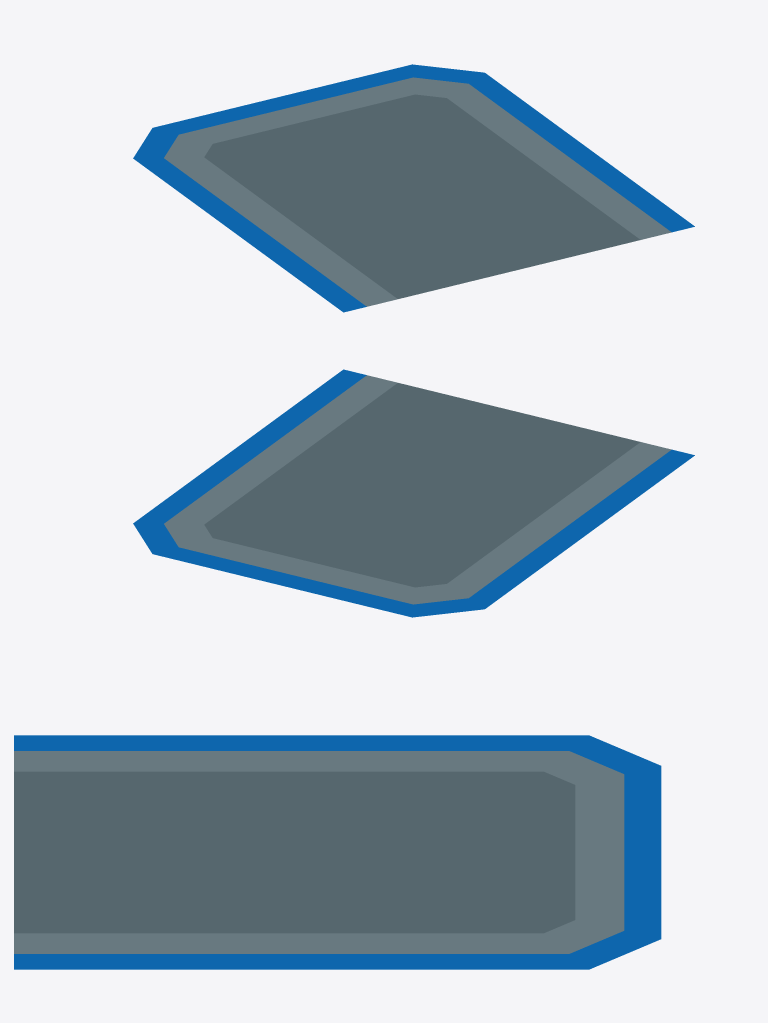
Rendered from Ceiling_type_C_005.fbx.
3 renders of one model, top to bottom at view 1: azimuth 30°, elevation 25°; view 2: azimuth 150°, elevation 25°; view 3: azimuth 270°, elevation 25°, orthographic. The views are drawn at different scales.
Visible parts, largest first — view 1: Ceiling_type_C_005; view 2: Ceiling_type_C_005; view 3: Ceiling_type_C_005.
Boxes of the visible parts, left/top/right/bottom form: Ceiling_type_C_005: left=133, top=64, right=694, bottom=312; Ceiling_type_C_005: left=133, top=369, right=694, bottom=617; Ceiling_type_C_005: left=14, top=735, right=661, bottom=969.
Size of the model in its own units: 400 by 400 by 4.55.
